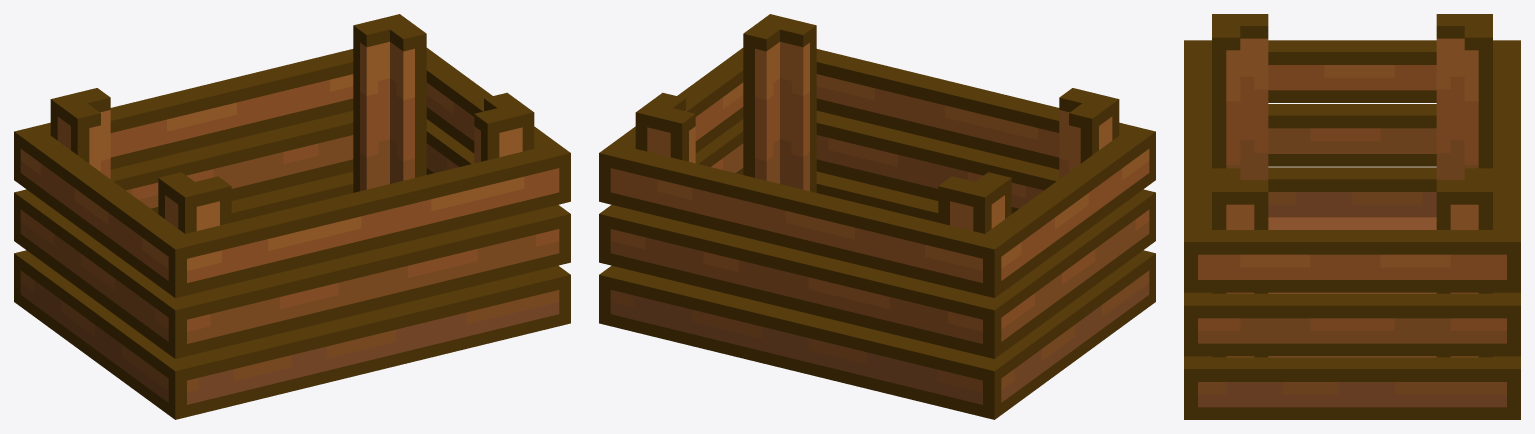
File: Wooden Crate.fbx
3 renders of one model, left to right at view 1: azimuth 30°, elevation 25°; view 2: azimuth 150°, elevation 25°; view 3: azimuth 270°, elevation 25°, orthographic. The views are drawn at different scales.
Parts seen in each view (by area): view 1: Wooden Crate; view 2: Wooden Crate; view 3: Wooden Crate.
Part boxes in pixels (box(x1,y1,x2,y2)): Wooden Crate: box(14, 14, 570, 419); Wooden Crate: box(599, 14, 1155, 419); Wooden Crate: box(1184, 14, 1520, 419).
Size of the model in its own units: 0.68 by 0.48 by 0.34.
Materials: 1 (1 with a texture image).
